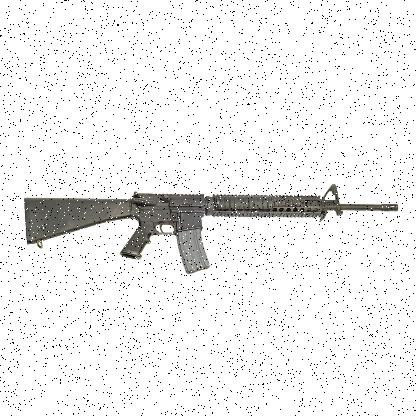gun: (25, 184, 396, 272)
